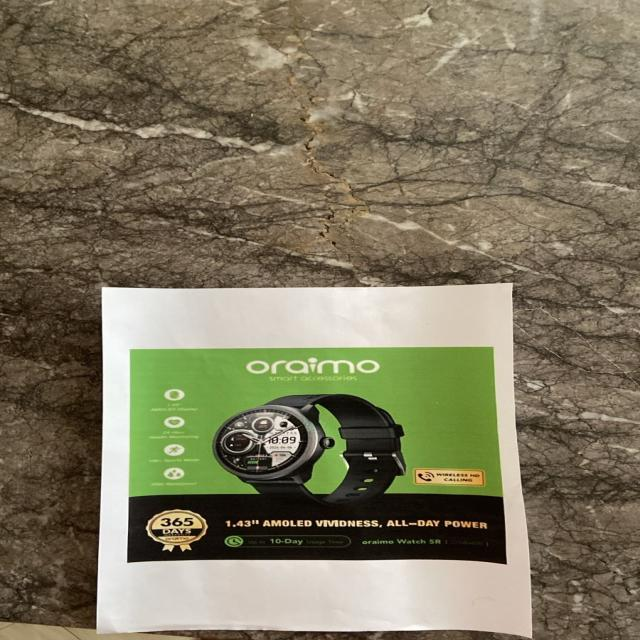Oraimo Watch 5R OSW-820: (360, 539, 492, 552)
